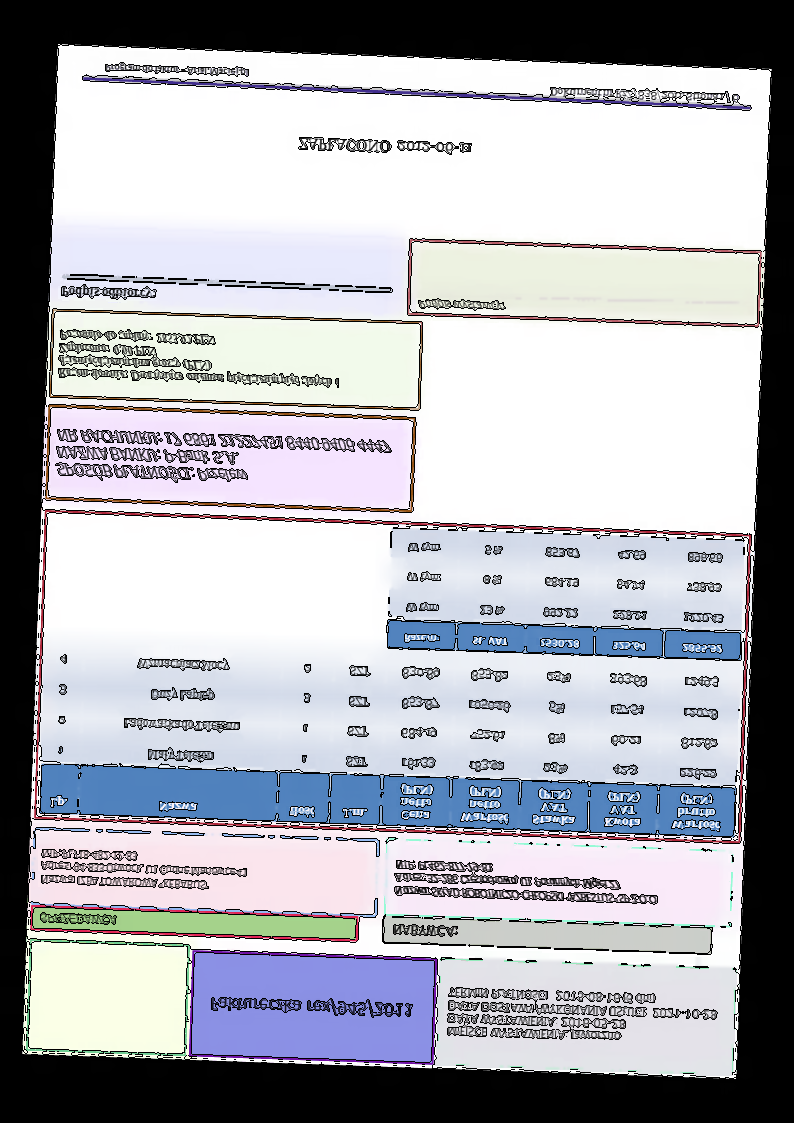Table: (38, 639, 741, 839), (386, 526, 746, 662)
TextBox: (54, 424, 392, 490), (55, 327, 343, 391), (444, 983, 720, 1048), (391, 857, 660, 907), (37, 847, 250, 894), (207, 991, 414, 1021), (548, 82, 741, 107), (294, 134, 474, 158), (102, 62, 250, 80), (59, 283, 159, 302), (416, 295, 505, 314), (37, 910, 121, 929), (390, 921, 459, 941)
